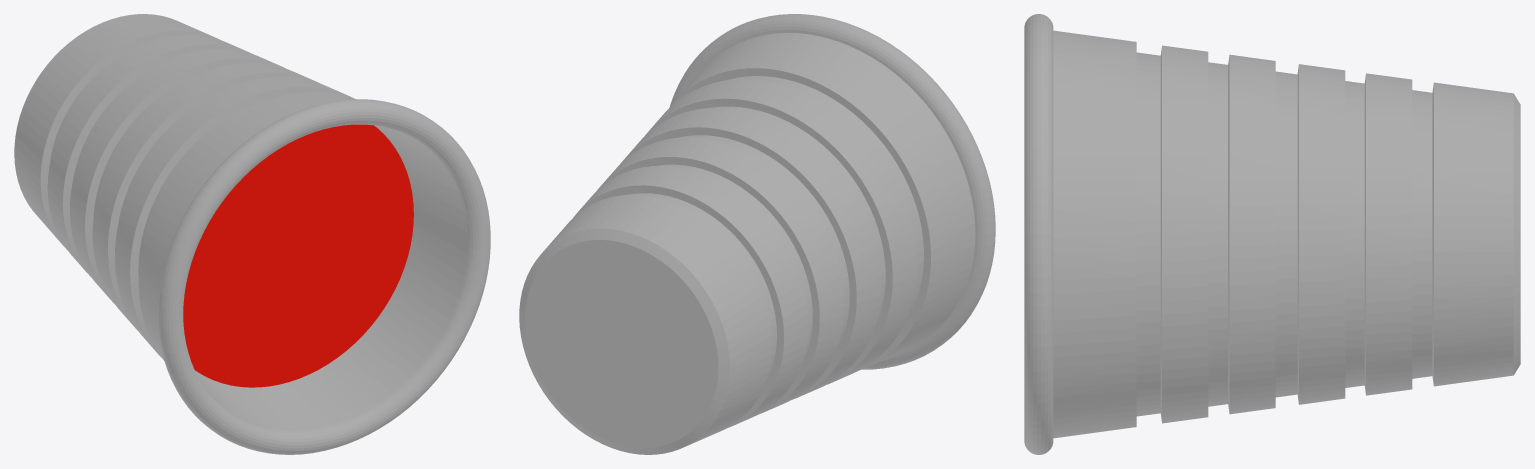
File: saft.glb
3 renders of one model, left to right at view 1: azimuth 30°, elevation 25°; view 2: azimuth 150°, elevation 25°; view 3: azimuth 270°, elevation 25°, orthographic. The views are drawn at different scales.
Parts seen in each view (by area): view 1: koppmedsaft.stl; view 2: koppmedsaft.stl; view 3: koppmedsaft.stl.
Part boxes in pixels (x1,y1,x2,y2): koppmedsaft.stl: (14,14,490,454); koppmedsaft.stl: (519,14,995,454); koppmedsaft.stl: (1024,14,1520,454).
Bounding box in the file's own units: 4.25 × 4.25 × 4.78.
